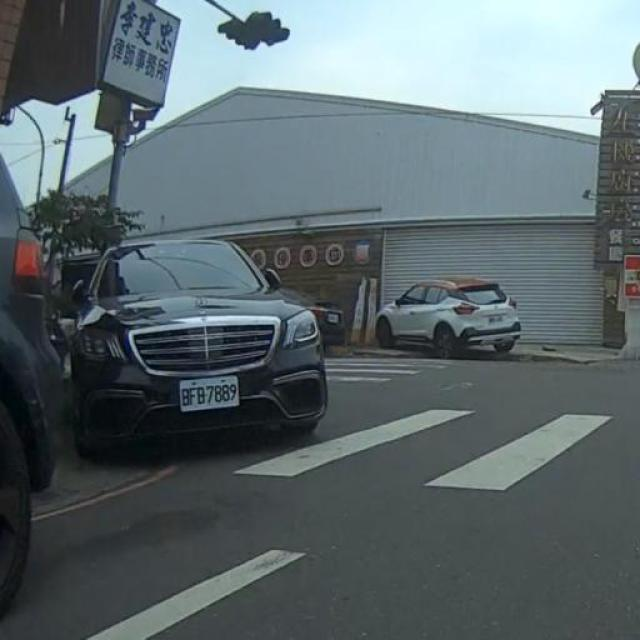illegalparking: (19, 193, 344, 534)
